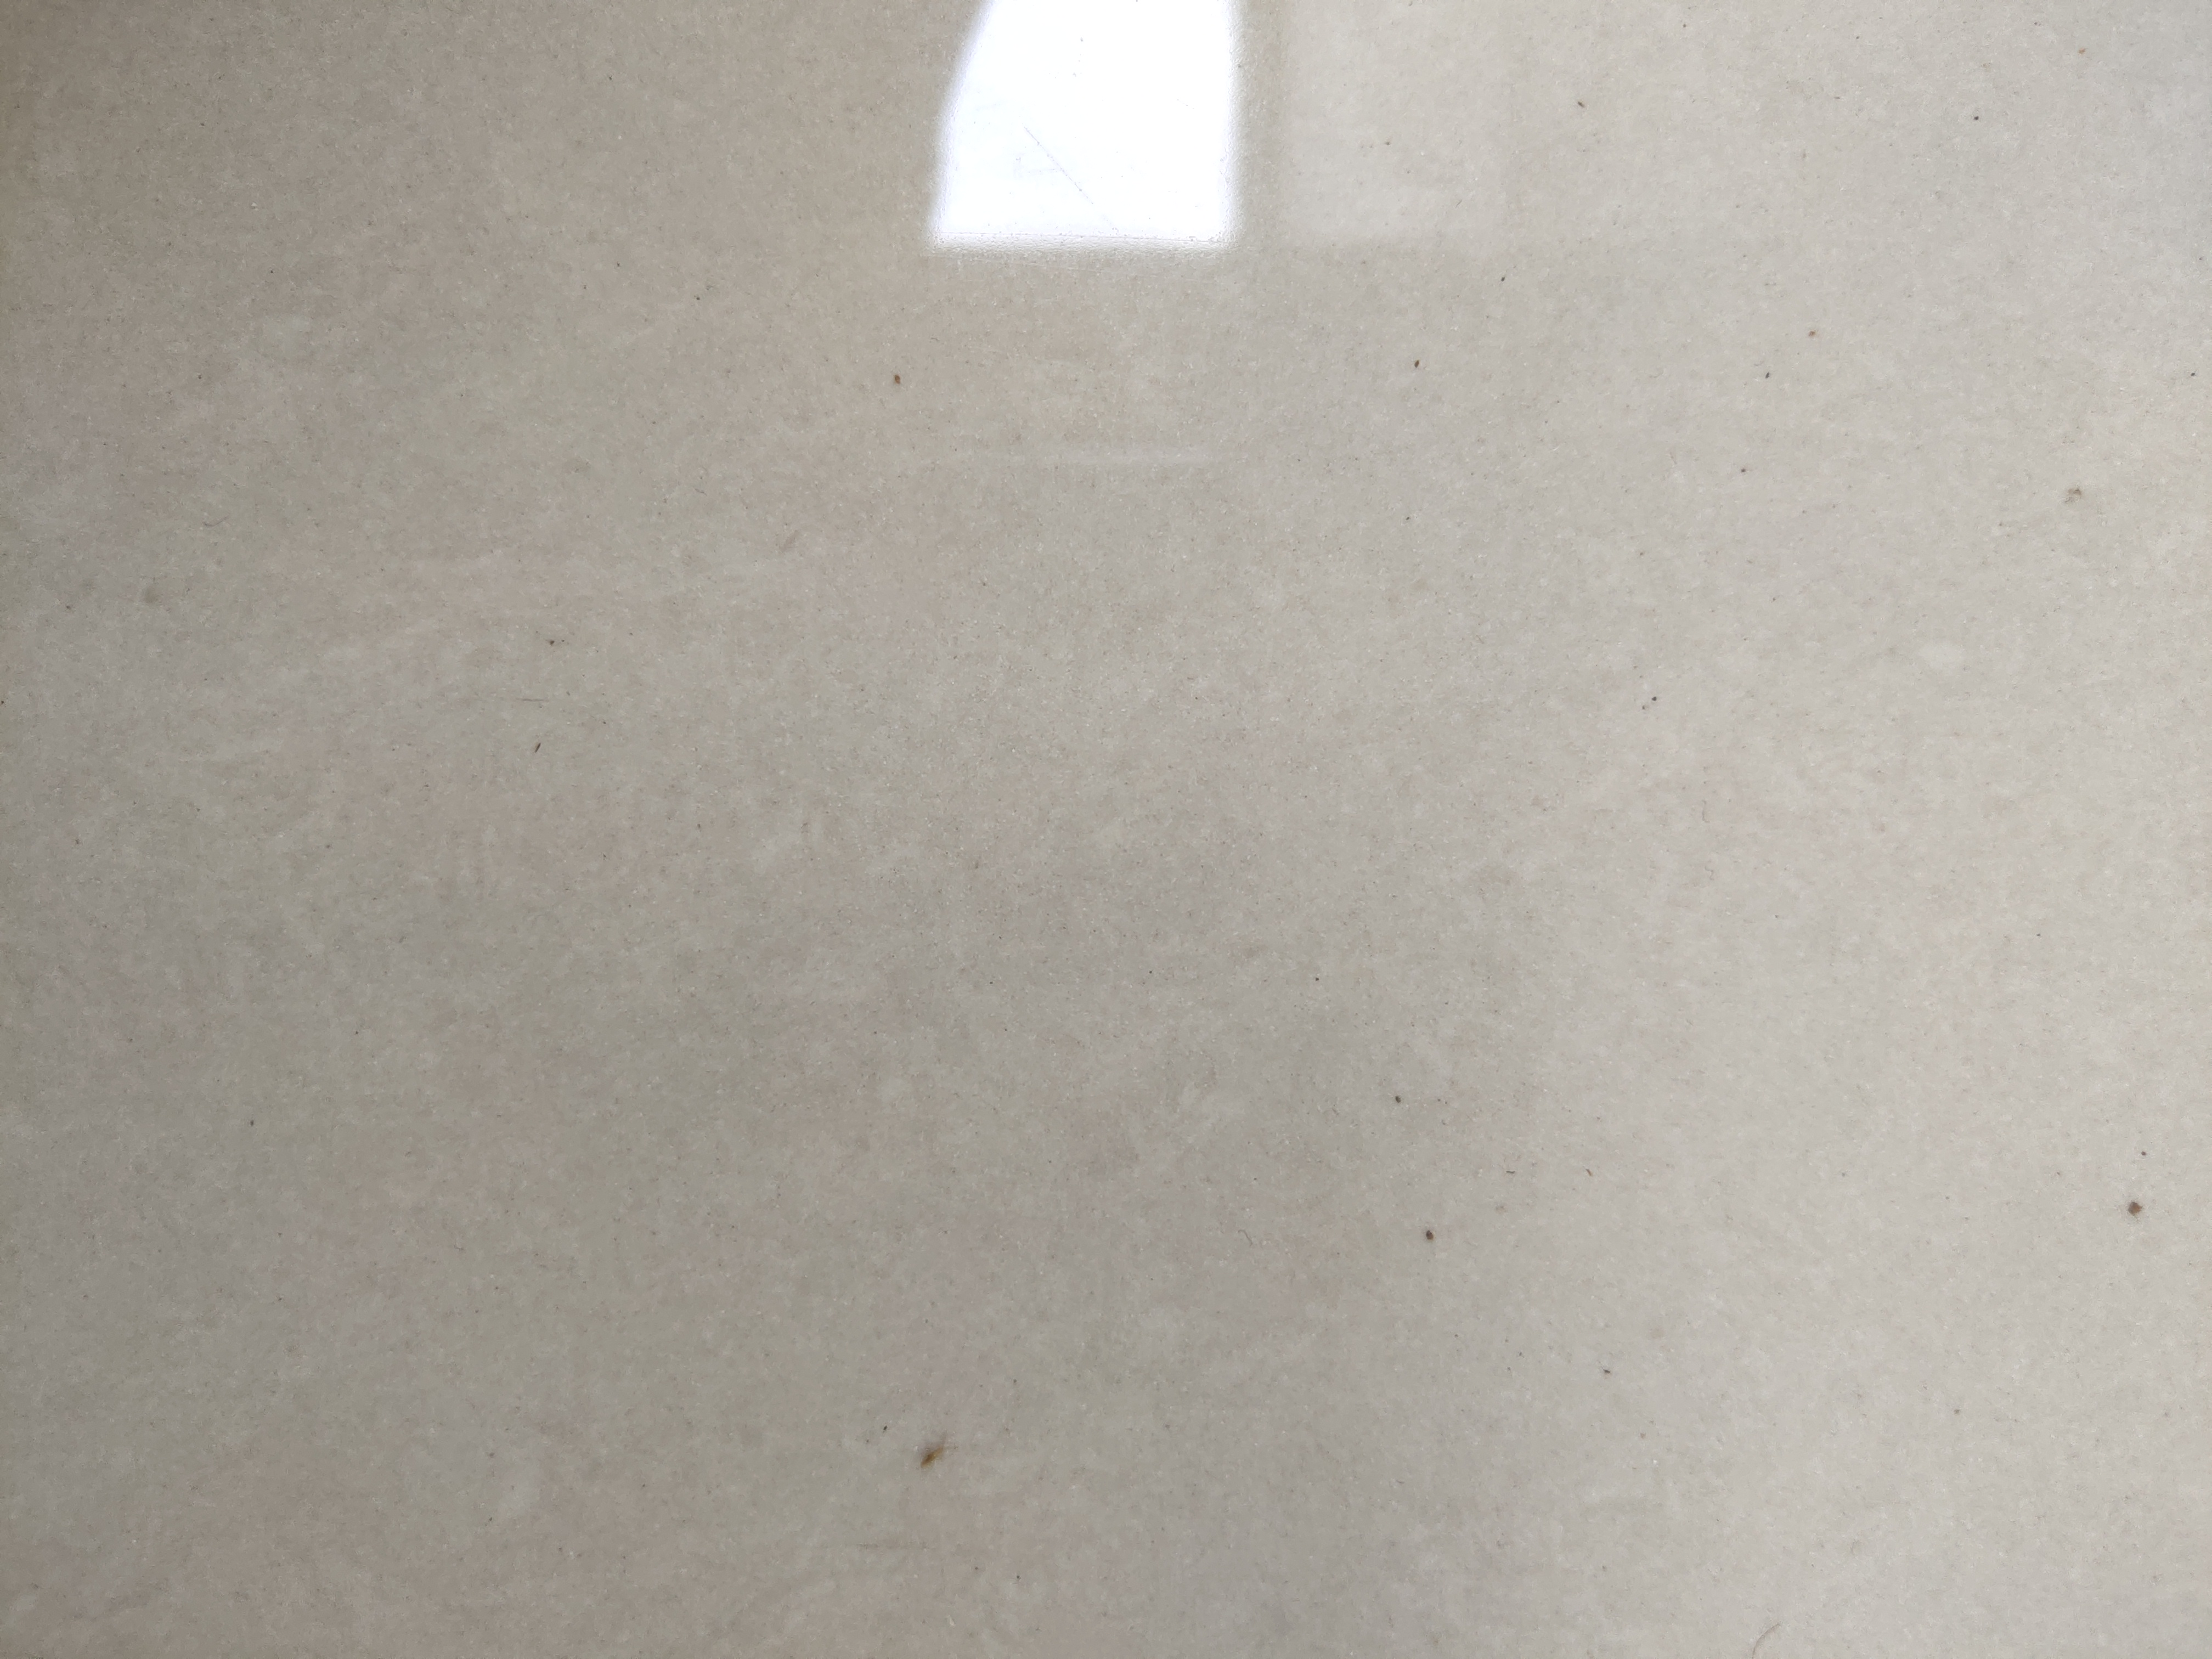reflection: (923, 2, 1244, 251)
